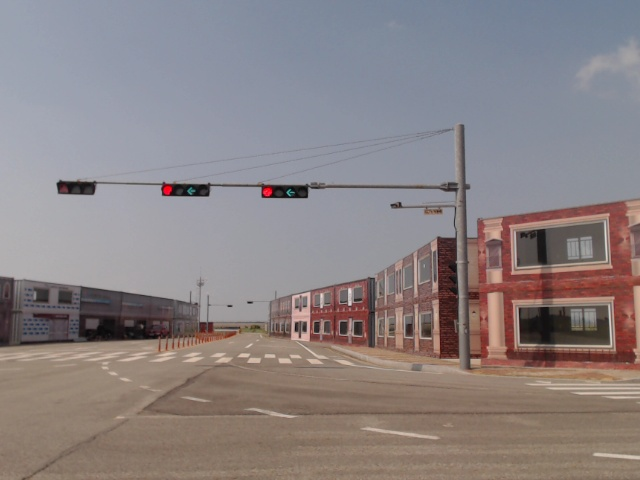left_green_4: (163, 184, 209, 196), (262, 186, 308, 197)
